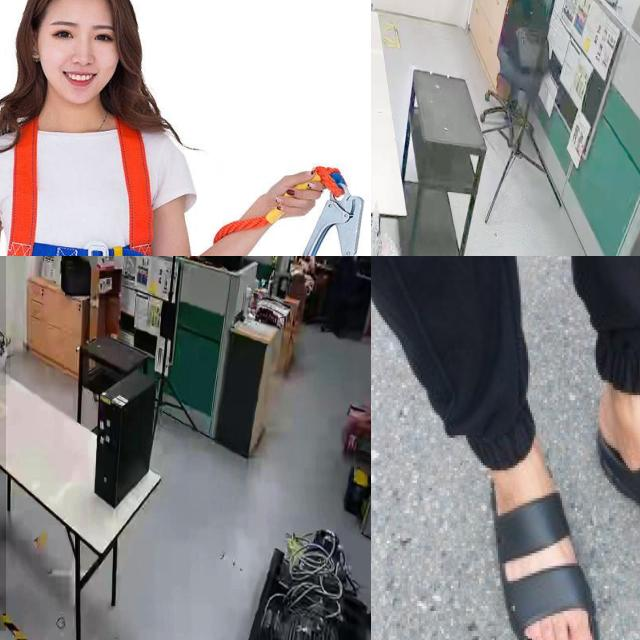Harness: (0, 129, 178, 256), (292, 161, 363, 256)
No_Glasses: (47, 15, 118, 50)
Sandals: (485, 364, 601, 640), (594, 374, 640, 588)
hand_glove: (0, 340, 11, 385)
